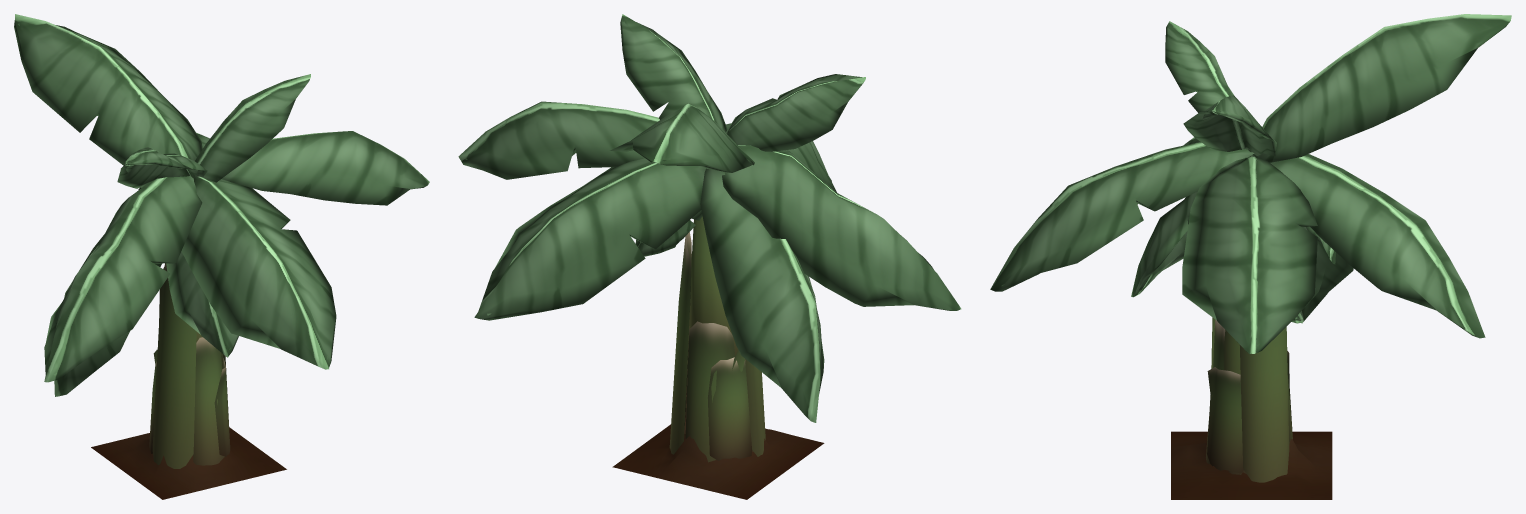
Rendered from Pohon 1.fbx.
The picture shows the model from 3 angles, left to right: view 1: azimuth 30°, elevation 25°; view 2: azimuth 150°, elevation 25°; view 3: azimuth 270°, elevation 25°; orthographic projection. The views are drawn at different scales.
Visible parts, largest first — view 1: Plane.004, Plane.003, Plane.005, Plane, Plane.018, Plane.011, Plane.008, Plane.017, Plane.009, Plane.010, Plane.002, Plane.016; view 2: Plane.001, Plane.003, Plane.002, Plane, Plane.011, Plane.010, Plane.008, Plane.005, Plane.012, Plane.013, Cylinder, Plane.014 (+3 smaller); view 3: Plane, Plane.005, Plane.001, Plane.004, Plane.011, Plane.014, Plane.010, Plane.016, Plane.008, Plane.009, Plane.002, Plane.019 (+1 smaller).
Part boxes in pixels (box(x1,y1,x2,y2)): Plane.004: box(181, 176, 336, 369); Plane.003: box(44, 176, 202, 382); Plane.005: box(14, 14, 202, 165); Plane: box(222, 131, 429, 205); Plane.018: box(152, 263, 196, 468); Plane.011: box(91, 427, 286, 499); Plane.008: box(195, 74, 310, 182); Plane.017: box(193, 337, 224, 465); Plane.009: box(166, 251, 238, 357); Plane.010: box(117, 147, 207, 188); Plane.002: box(54, 234, 161, 396); Plane.016: box(214, 358, 230, 456); Plane.001: box(474, 158, 705, 320); Plane.003: box(722, 145, 961, 310); Plane.002: box(700, 168, 824, 422); Plane: box(458, 101, 659, 179); Plane.011: box(612, 424, 824, 499); Plane.010: box(726, 74, 865, 151); Plane.008: box(620, 14, 727, 132); Plane.005: box(610, 103, 754, 172); Plane.012: box(708, 357, 752, 460); Plane.013: box(685, 321, 735, 462); Cylinder: box(684, 216, 738, 433); Plane.014: box(669, 232, 691, 454); Plane: box(1182, 155, 1317, 353); Plane.005: box(1252, 14, 1511, 162); Plane.001: box(1262, 154, 1485, 338); Plane.004: box(990, 142, 1254, 291); Plane.011: box(1171, 431, 1332, 499); Plane.014: box(1239, 327, 1289, 482); Plane.010: box(1165, 21, 1234, 112); Plane.016: box(1207, 367, 1243, 473); Plane.008: box(1183, 95, 1276, 155); Plane.009: box(1131, 192, 1197, 297); Plane.002: box(1291, 227, 1353, 323); Plane.019: box(1224, 330, 1246, 474).
Bounding box in the file's own units: 683 × 590 × 646.
